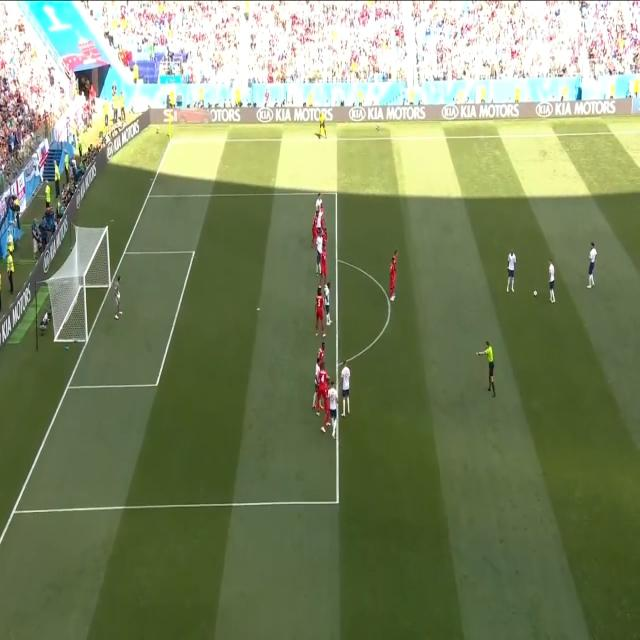ball: (532, 286, 538, 301)
player: (328, 382, 338, 434), (342, 360, 351, 414), (316, 284, 325, 334), (588, 238, 597, 284), (507, 249, 516, 293), (313, 354, 320, 407), (548, 257, 556, 303), (318, 366, 326, 411), (315, 230, 323, 274), (326, 280, 332, 330), (317, 339, 327, 365), (390, 259, 395, 298), (394, 248, 398, 294), (324, 378, 328, 424), (324, 226, 327, 276), (318, 206, 324, 227), (313, 211, 318, 235), (315, 194, 322, 207)
